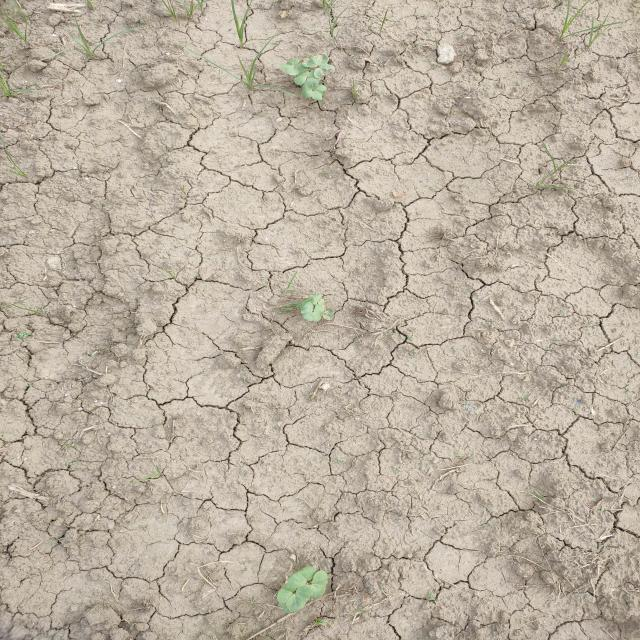seedling_s2: (286, 584, 312, 611), (288, 566, 316, 588), (310, 570, 328, 599), (277, 583, 296, 605), (302, 54, 329, 68), (302, 78, 318, 98), (314, 64, 335, 78), (280, 63, 300, 76), (301, 302, 314, 321), (312, 85, 327, 101), (294, 71, 309, 85), (313, 305, 325, 321), (308, 294, 323, 306), (295, 62, 311, 73), (323, 308, 333, 320), (286, 58, 299, 67)
